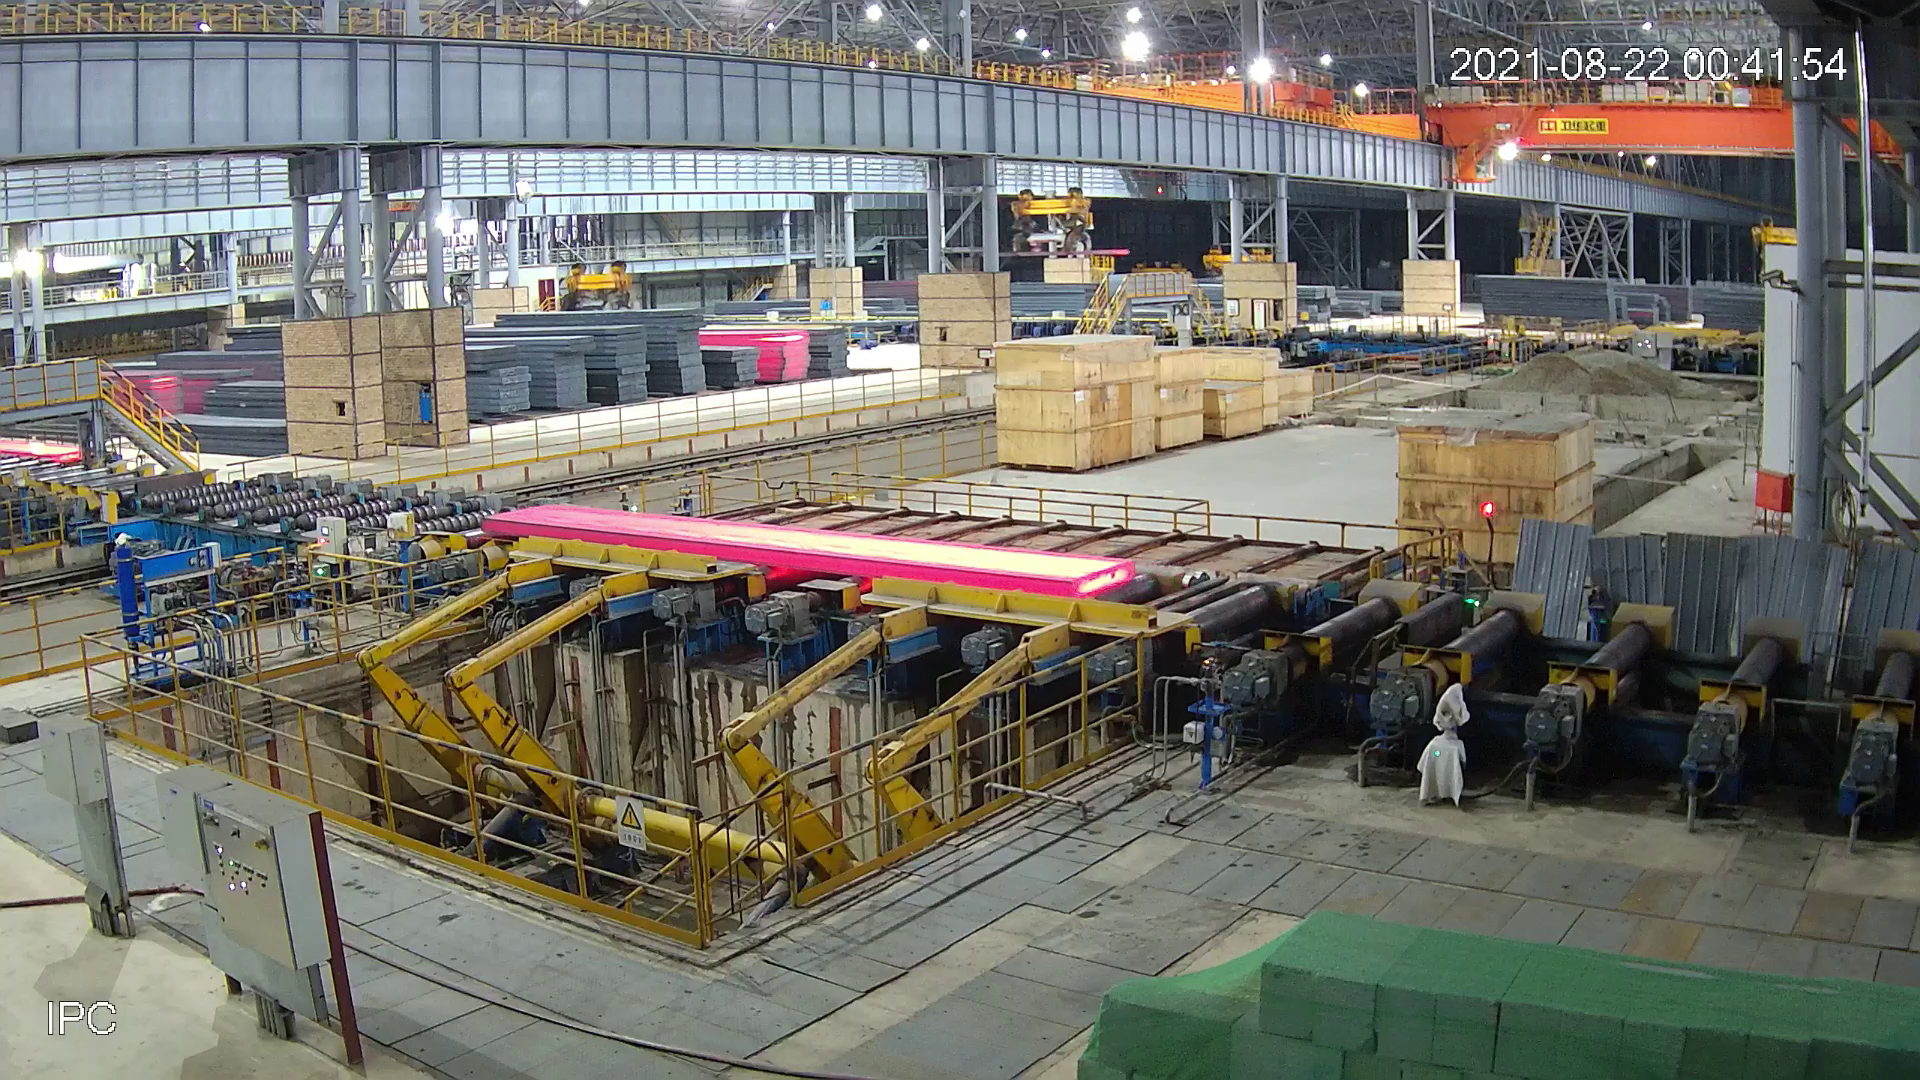slab: (473, 502, 1139, 599)
